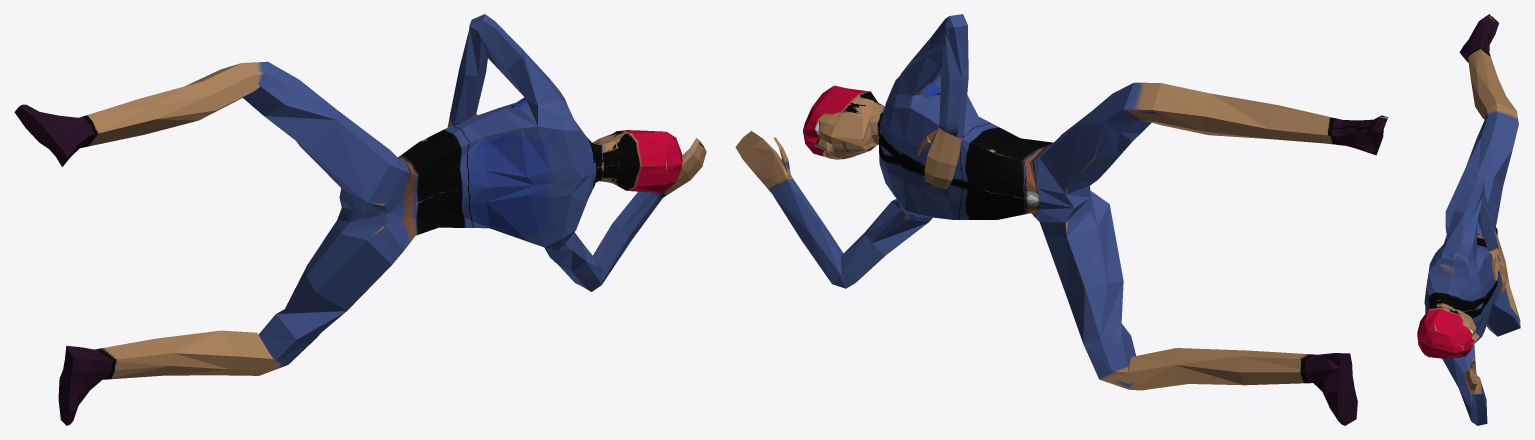
The model's file is mirrorman_000029.obj.
3 views of the same model, side by side, from view 1: azimuth 30°, elevation 25°; view 2: azimuth 150°, elevation 25°; view 3: azimuth 270°, elevation 25° (orthographic). The views are drawn at different scales.
Visible parts, largest first — view 1: mirrorman_Cube.001_Material.001; view 2: mirrorman_Cube.001_Material.001; view 3: mirrorman_Cube.001_Material.001.
Boxes of the visible parts, x1,y1,x2,y2 form: mirrorman_Cube.001_Material.001: [14, 14, 706, 425]; mirrorman_Cube.001_Material.001: [735, 14, 1388, 425]; mirrorman_Cube.001_Material.001: [1417, 14, 1520, 425].
Bounding box in the file's own units: 1.96 × 0.9268 × 0.3721.
1 material, 1 textured.
